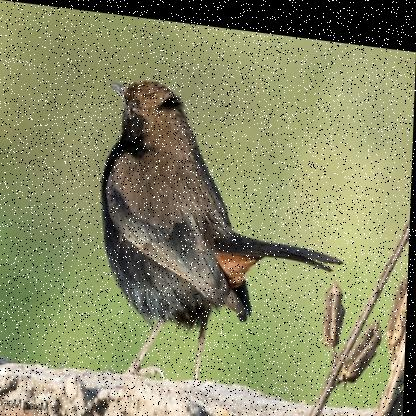Burung: (97, 72, 350, 394)
